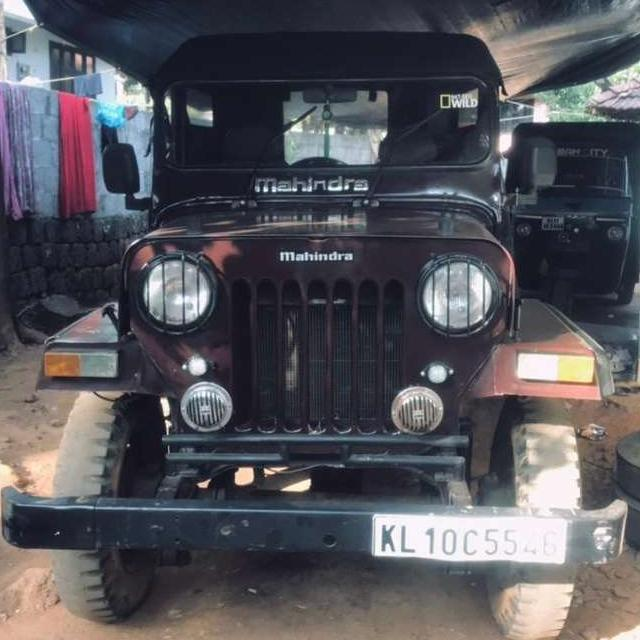Indian_Number_Plate: (375, 517, 567, 562)
